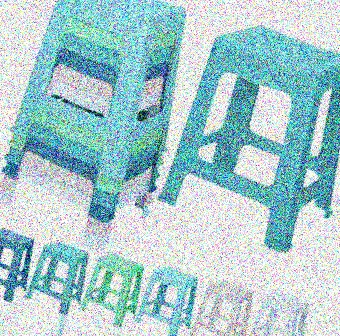plastic: (186, 25, 334, 236)
